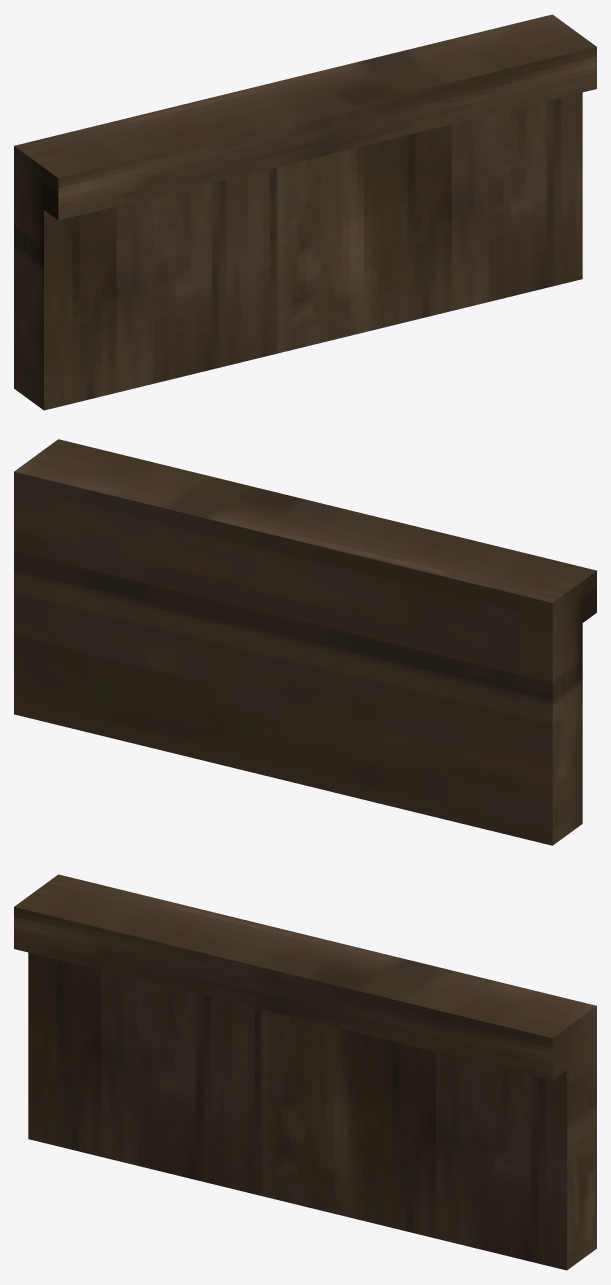
File: bar_model.glb
3 views of the same model, one above another, from view 1: azimuth 30°, elevation 25°; view 2: azimuth 150°, elevation 25°; view 3: azimuth 330°, elevation 25° (orthographic).
Visible parts, largest first — view 1: Cube; view 2: Cube; view 3: Cube.
Part boxes in pixels (x1,y1,x2,y2): Cube: [14, 14, 596, 410]; Cube: [14, 439, 596, 845]; Cube: [14, 874, 596, 1270].
Size of the model in its own units: 1.92 by 0.8257 by 0.2737.
1 material, 1 textured.
